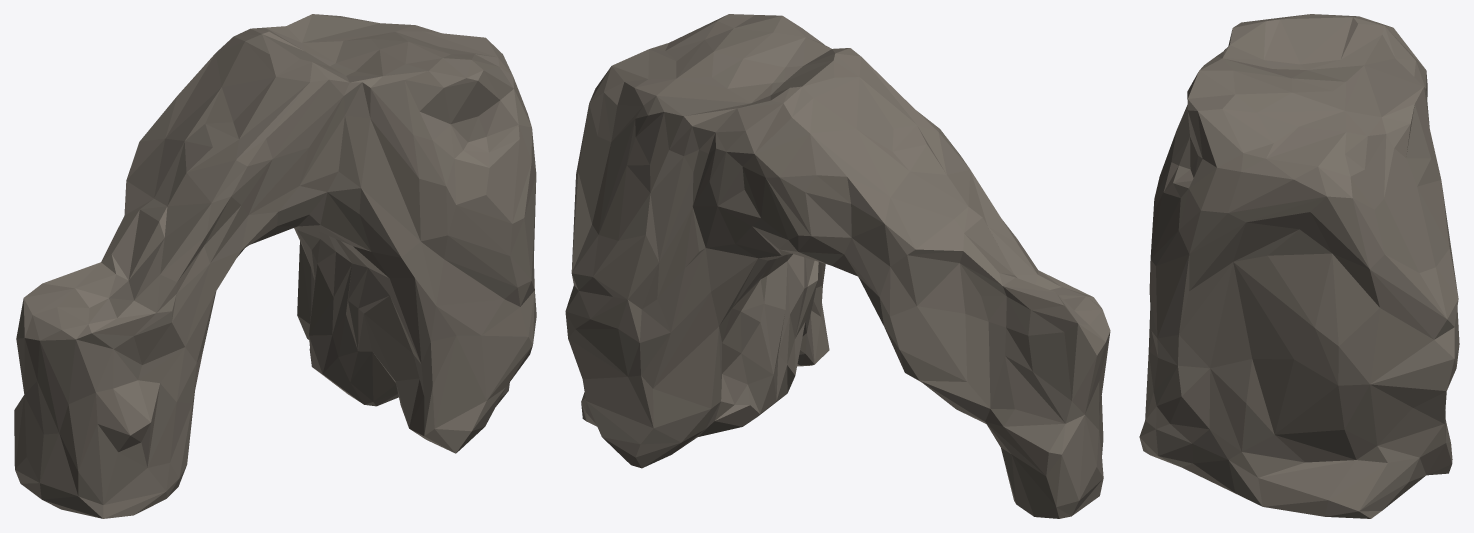
The model's file is SM_Env_Rock_Arch_01.glb.
The picture shows the model from 3 angles, left to right: view 1: azimuth 30°, elevation 25°; view 2: azimuth 150°, elevation 25°; view 3: azimuth 270°, elevation 25°; orthographic projection. The views are drawn at different scales.
Visible parts, largest first — view 1: SM_Env_Rock_Arch_01_part00; view 2: SM_Env_Rock_Arch_01_part00; view 3: SM_Env_Rock_Arch_01_part00.
Boxes of the visible parts, bbox=[...] form: SM_Env_Rock_Arch_01_part00: bbox=[14, 14, 536, 518]; SM_Env_Rock_Arch_01_part00: bbox=[565, 14, 1110, 518]; SM_Env_Rock_Arch_01_part00: bbox=[1139, 14, 1459, 518].
Size of the model in its own units: 10.41 by 7.77 by 5.59.
Materials: 1 (1 with a texture image).
